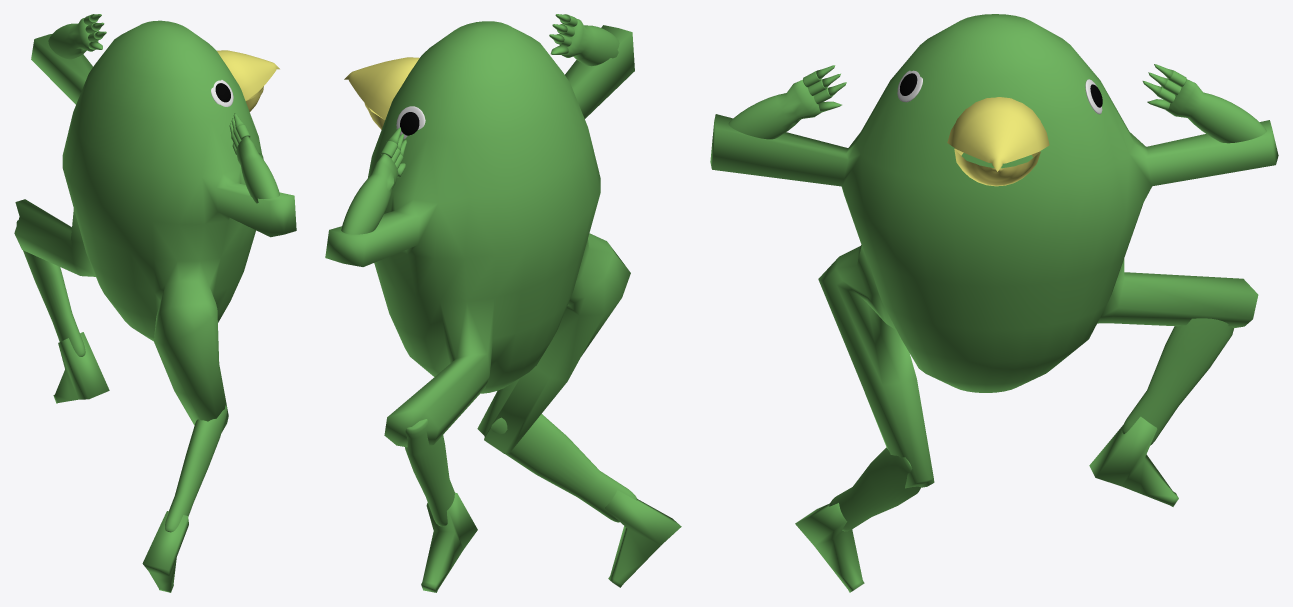
The model's file is jyushimatsu1.dae.
3 views of the same model, side by side, from view 1: azimuth 30°, elevation 25°; view 2: azimuth 150°, elevation 25°; view 3: azimuth 270°, elevation 25° (orthographic). The views are drawn at different scales.
Visible parts, largest first — view 1: body, footL1, footL, armR, armL, mouth, eye2; view 2: body, footL1, footL, armL, armR, mouth, eye1; view 3: body, footL, footL1, mouth, armL, armR, obj1.
Boxes of the visible parts, bbox=[...] form: body: bbox=[14, 20, 296, 432]; footL1: bbox=[142, 405, 227, 592]; footL: bbox=[16, 220, 109, 403]; armR: bbox=[229, 113, 279, 203]; armL: bbox=[48, 14, 106, 59]; mouth: bbox=[217, 50, 279, 100]; eye2: bbox=[211, 80, 233, 106]; body: bbox=[325, 21, 634, 453]; footL1: bbox=[491, 414, 681, 587]; footL: bbox=[405, 419, 477, 592]; armL: bbox=[341, 127, 406, 234]; armR: bbox=[549, 14, 619, 66]; mouth: bbox=[344, 57, 419, 119]; eye1: bbox=[396, 106, 425, 139]; body: bbox=[710, 14, 1278, 488]; footL: bbox=[1089, 318, 1233, 506]; footL1: bbox=[795, 447, 920, 592]; mouth: bbox=[947, 97, 1049, 171]; armL: bbox=[1142, 64, 1266, 143]; armR: bbox=[728, 65, 846, 139]; obj1: bbox=[954, 148, 1040, 186].
Size of the model in its own units: 1.64 by 3.17 by 3.73.
